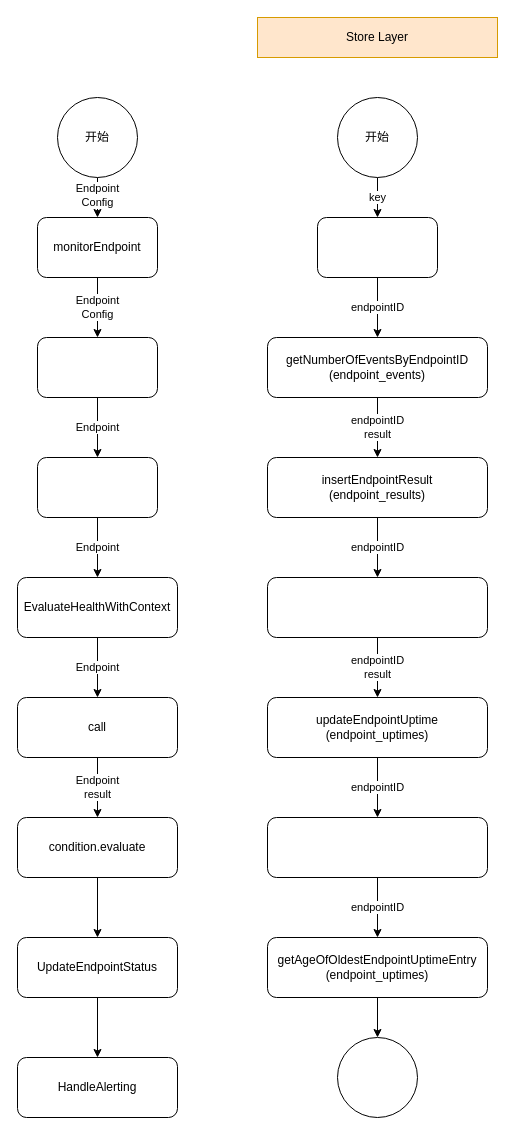
Image size: 515x1135. Some labels were removed from this diagram. The shapes that lost their labels are listed below. From the top down, each one's centre as x and y in pixels, then its label:
(x=377, y=247): getEndpointID (endpoints)
(x=97, y=367): executeEndpoint
(x=97, y=487): EvaluateHealth
(x=377, y=607): getNumberOfResultsByEndpointID (endpoint_results)
(x=377, y=847): getNumberOfUptimeEntriesByEndpointID (endpoint_uptimes)
(x=377, y=1077): 结束
